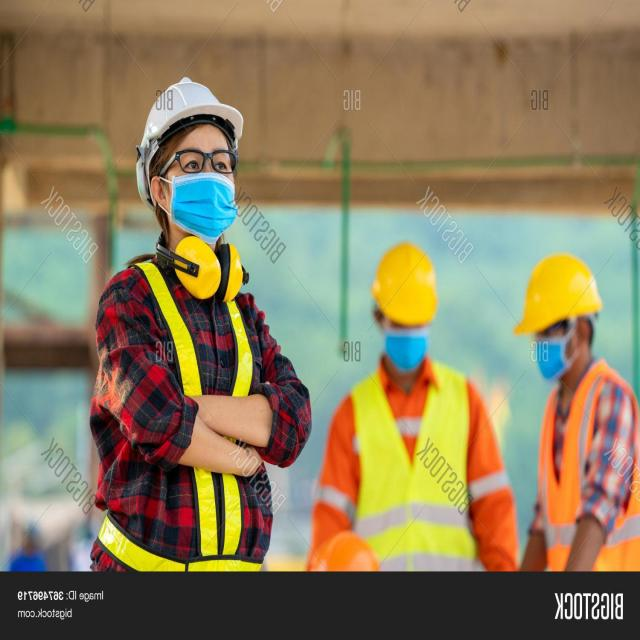Reflective-Jacket: (114, 255, 264, 572), (329, 362, 515, 570), (535, 365, 640, 570)
Safety-Helmet: (510, 246, 607, 342), (135, 74, 246, 152), (369, 239, 443, 332)
